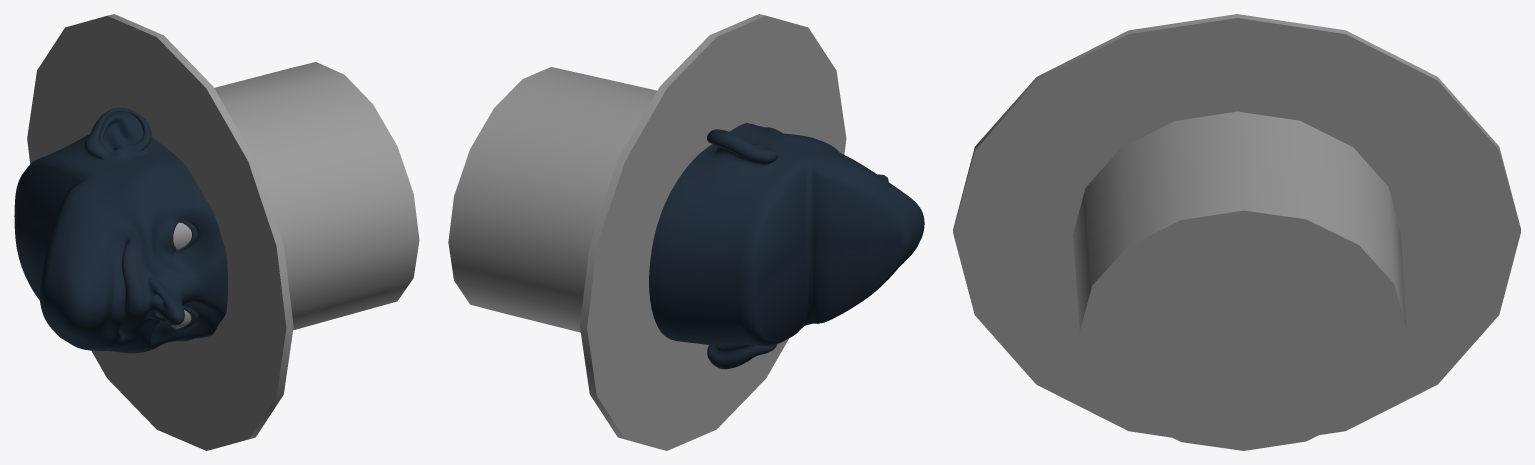
Rendered from StaticMesh_AnimatronicHead_TopHat.fbx.
The picture shows the model from 3 angles, left to right: view 1: azimuth 30°, elevation 25°; view 2: azimuth 150°, elevation 25°; view 3: azimuth 270°, elevation 25°; orthographic projection. The views are drawn at different scales.
Visible parts, largest first — view 1: Animatronic Head top hat; view 2: Animatronic Head top hat; view 3: Animatronic Head top hat.
Part boxes in pixels (box(x1,y1,x2,y2)): Animatronic Head top hat: box(14, 14, 419, 450); Animatronic Head top hat: box(448, 14, 924, 450); Animatronic Head top hat: box(953, 14, 1520, 450).
Size of the model in its own units: 41.15 by 44.9 by 53.78.
